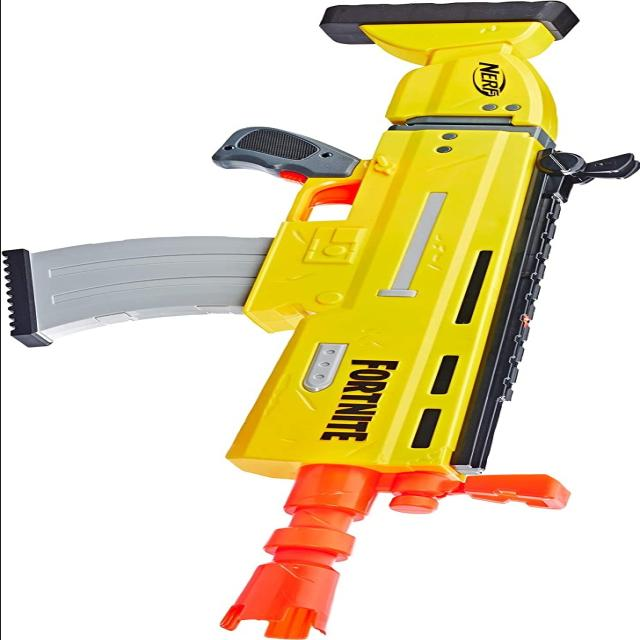Nerf gun: (2, 3, 636, 640)
